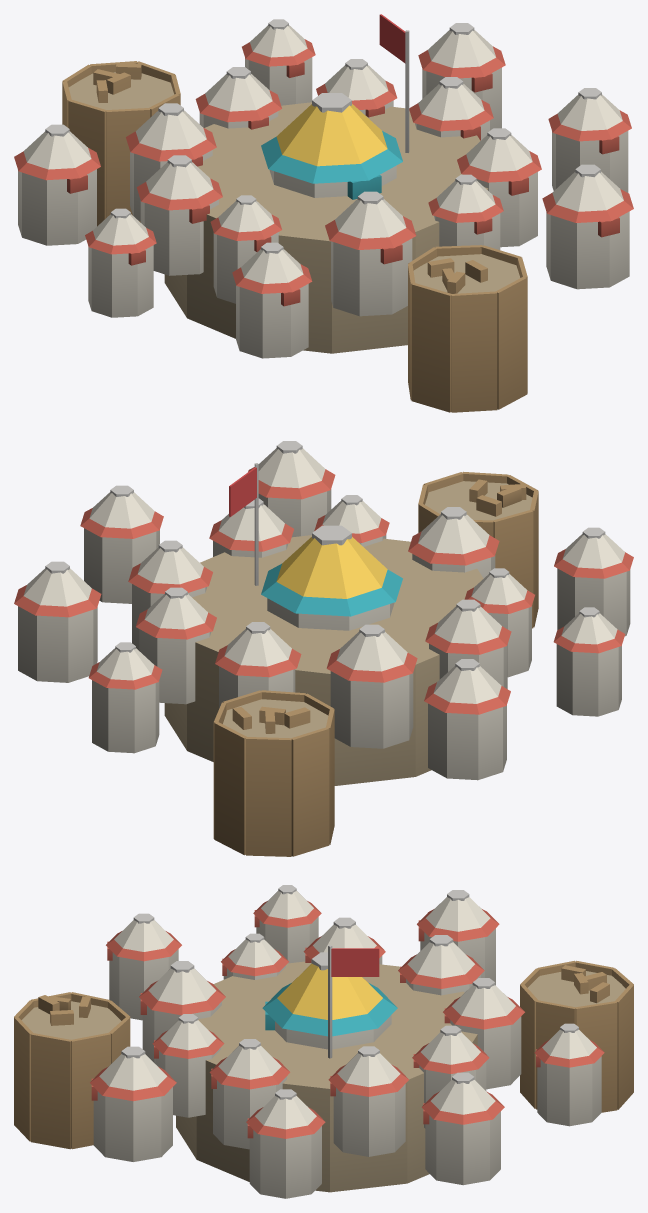
The model's file is town_steppe_a.glb.
The picture shows the model from 3 angles, top to bottom: view 1: azimuth 30°, elevation 25°; view 2: azimuth 150°, elevation 25°; view 3: azimuth 270°, elevation 25°; orthographic projection. The views are drawn at different scales.
Visible parts, largest first — view 1: town_steppe_a; view 2: town_steppe_a; view 3: town_steppe_a.
Part boxes in pixels (x1=…): town_steppe_a: x1=14, y1=14, x2=633, y2=412; town_steppe_a: x1=14, y1=441, x2=633, y2=856; town_steppe_a: x1=14, y1=885, x2=633, y2=1198.
Bounding box in the file's own units: 1.86 × 0.77 × 2.01.
